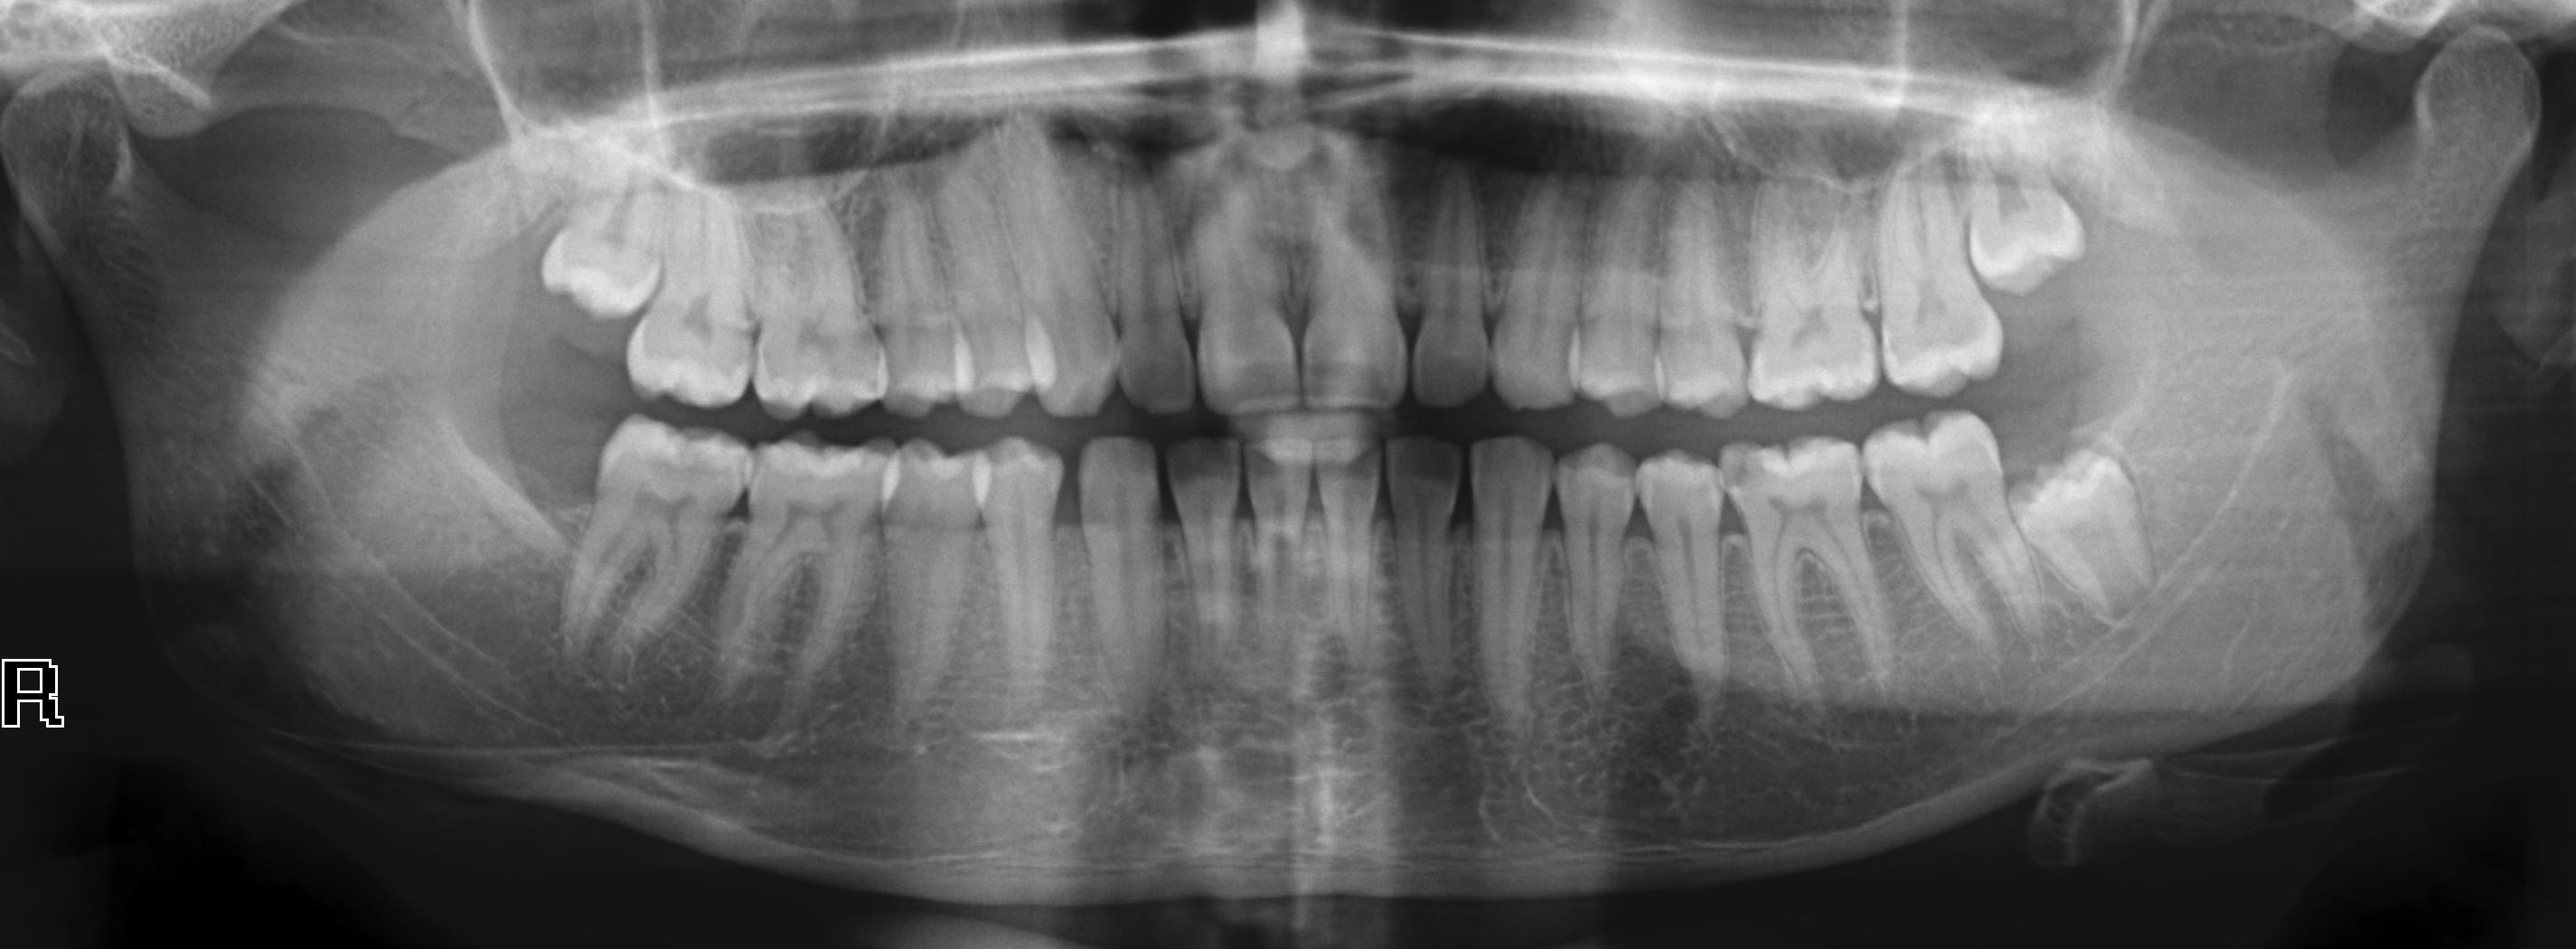Çürük Bölgesi: (1713, 440, 1773, 496)
